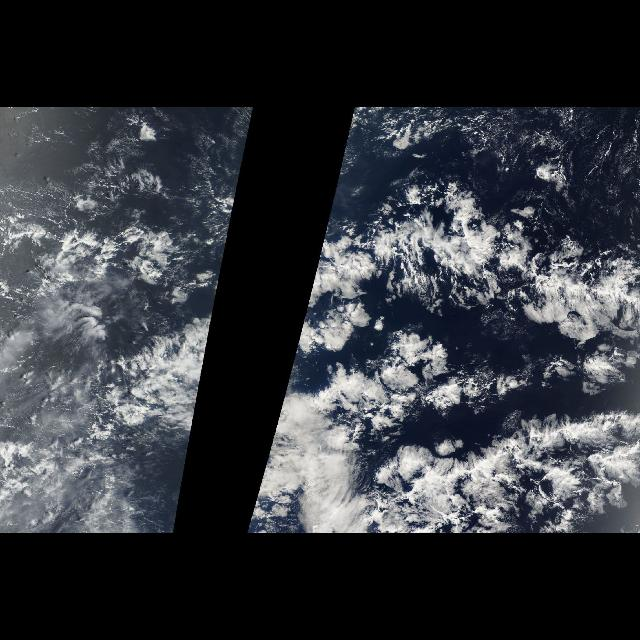Fish: (302, 168, 640, 350), (384, 391, 630, 531)
Flower: (317, 353, 503, 449)
